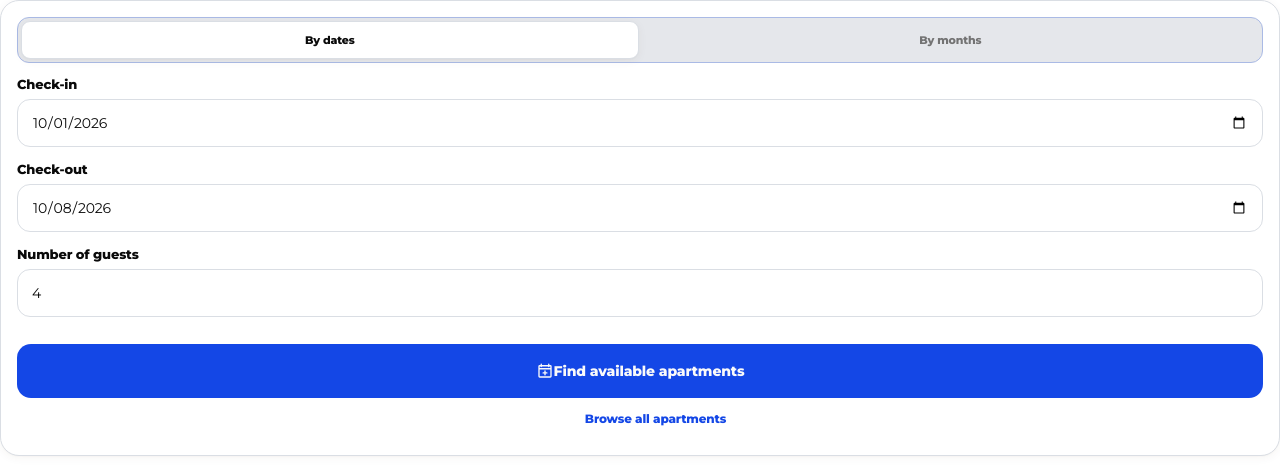
Test: RentalSearchForm › keeps guests and a valid start date while removing incompatible mode fields
Click the radio button labelled "By months" at {"x": 950, "y": 40}, box [642,21,1259,59]
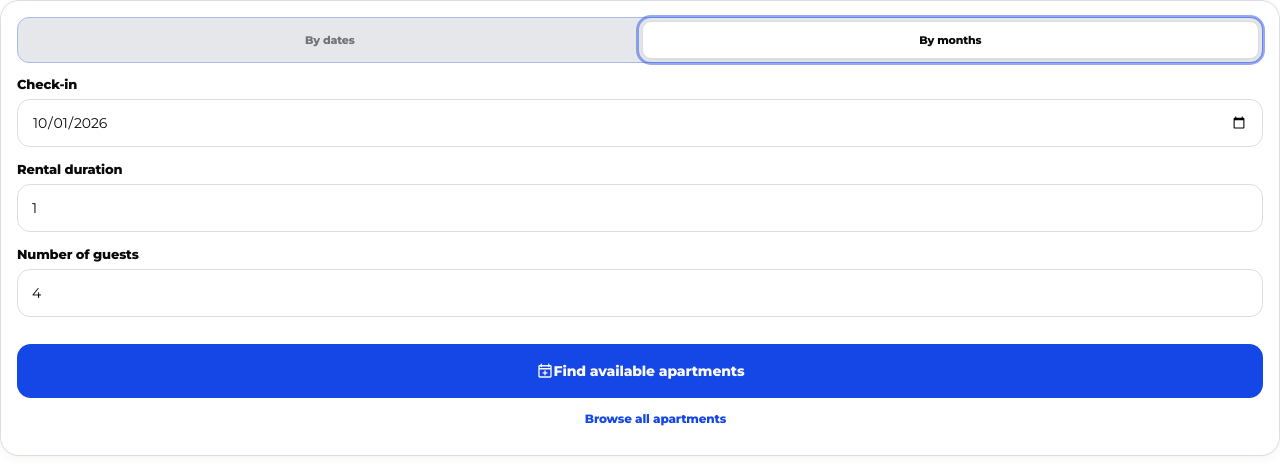
Expected: the date field labelled "Check-in" holds "2026-10-01", [17,99,1263,147]
Now the label labelled "Check-out" is gone
Now the number field labelled "Rental duration" holds "1", box [17,184,1263,232]
